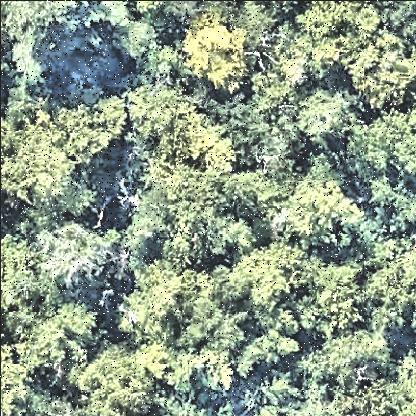tree-top: (123, 166, 259, 252), (119, 86, 232, 174), (83, 1, 185, 88), (1, 103, 80, 209), (201, 96, 300, 174), (268, 170, 360, 250), (14, 294, 99, 378), (114, 256, 204, 332), (294, 327, 393, 391), (226, 241, 310, 313), (179, 11, 248, 97), (81, 340, 159, 416), (1, 1, 77, 77), (37, 224, 120, 292), (54, 93, 129, 165), (365, 230, 416, 334), (347, 110, 416, 183), (174, 297, 252, 359), (348, 38, 410, 112), (267, 20, 332, 88), (296, 86, 362, 148), (290, 377, 390, 416), (300, 1, 385, 46), (232, 324, 303, 377), (311, 266, 361, 326), (1, 228, 36, 313), (367, 176, 416, 236), (1, 340, 31, 416), (233, 1, 278, 49), (255, 365, 302, 409), (26, 381, 83, 416), (388, 348, 416, 416), (383, 1, 416, 46)
